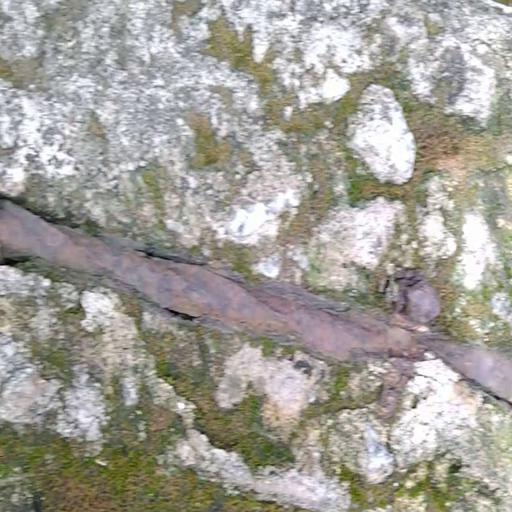spalling: (1, 153, 512, 400)
